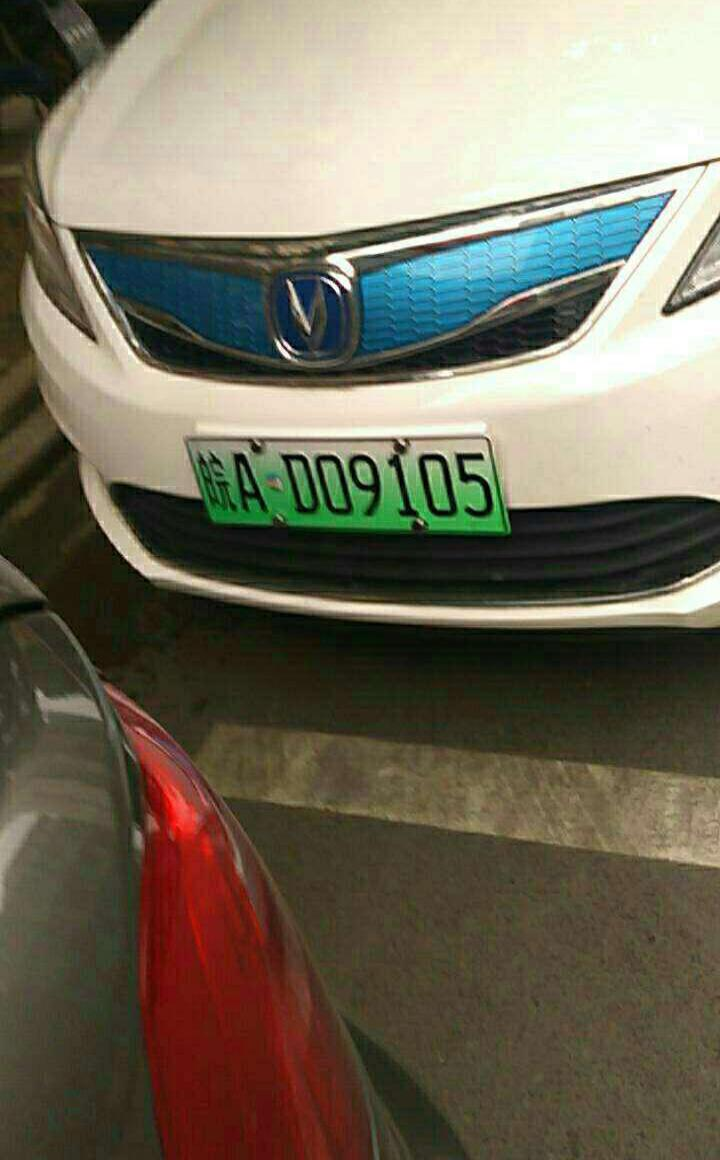car_id: (181, 438, 508, 530)
